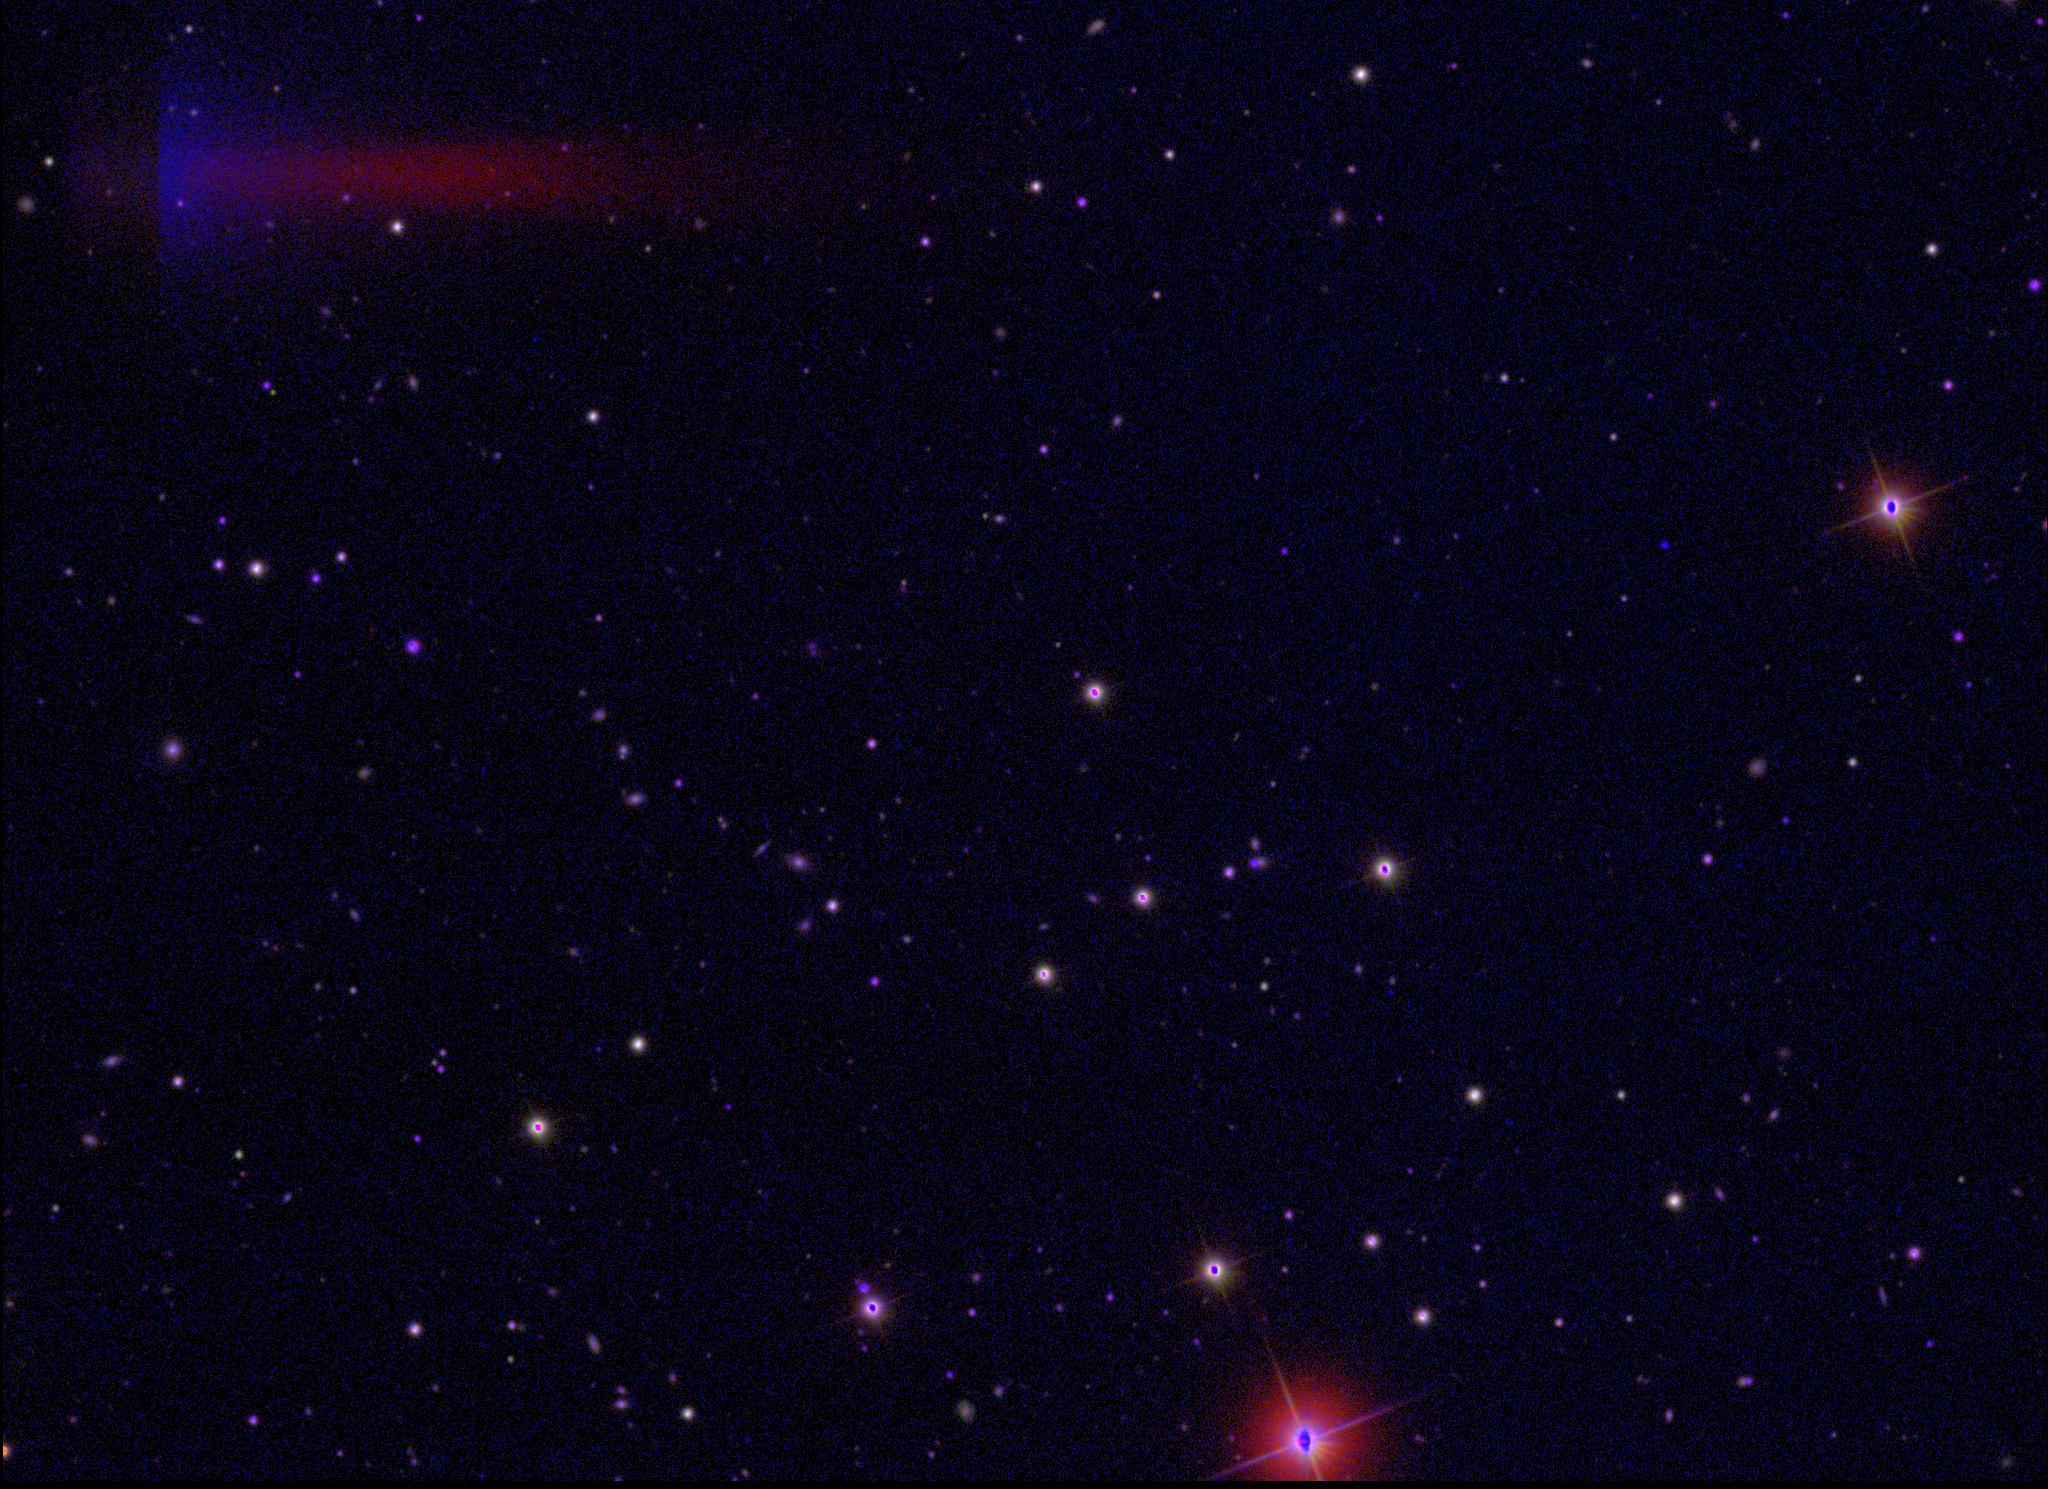L: (1657, 538, 1671, 552)
